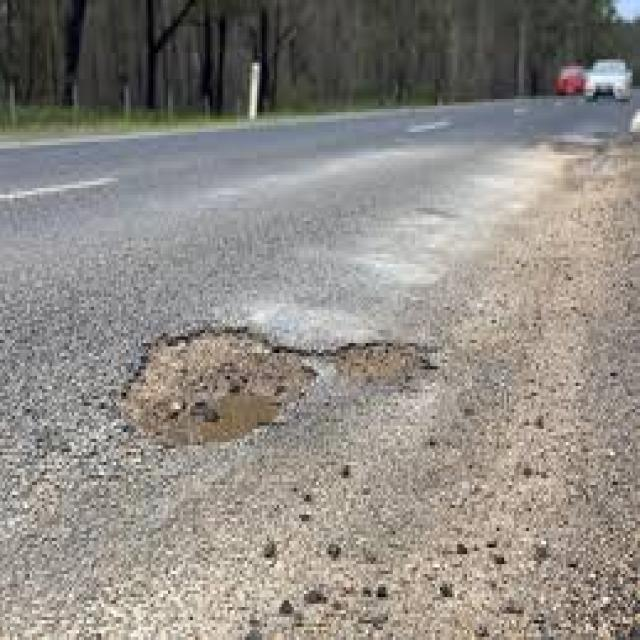Pothole: (116, 327, 430, 452)
